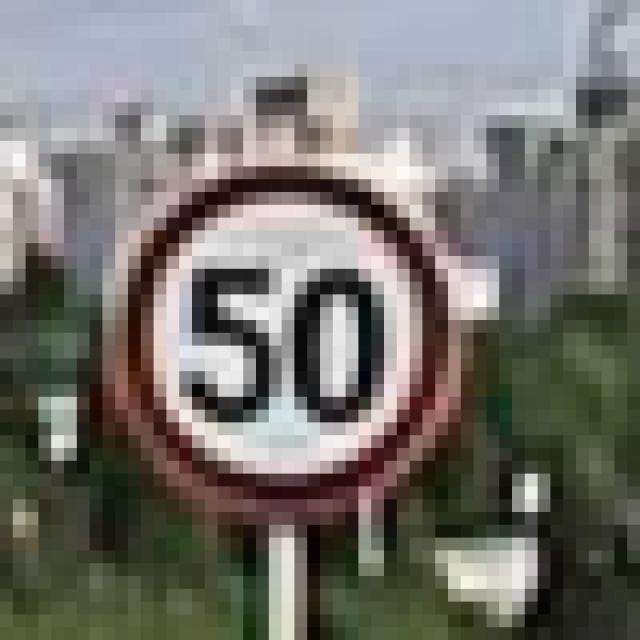Limite-50: (98, 154, 464, 521)
